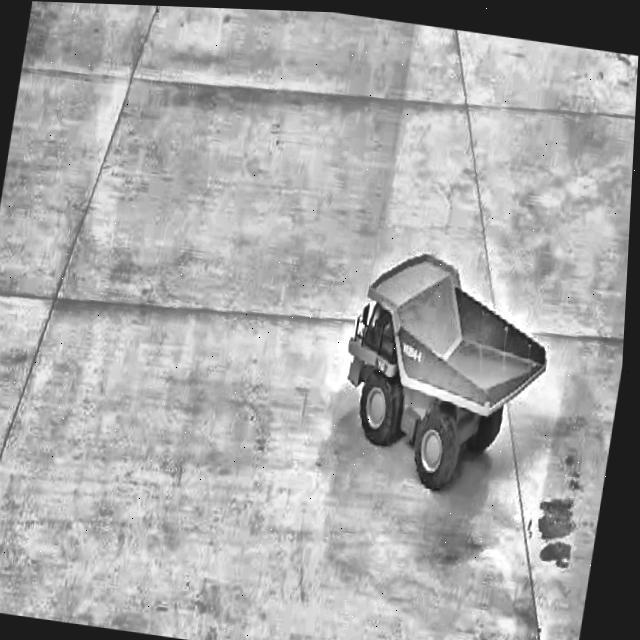dump_truck: (330, 233, 567, 495)
